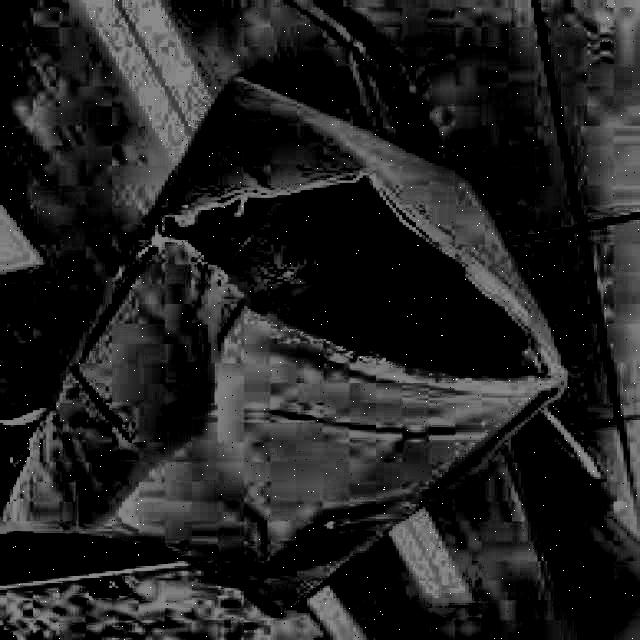box: (1, 54, 592, 628)
hole: (159, 169, 549, 397)
